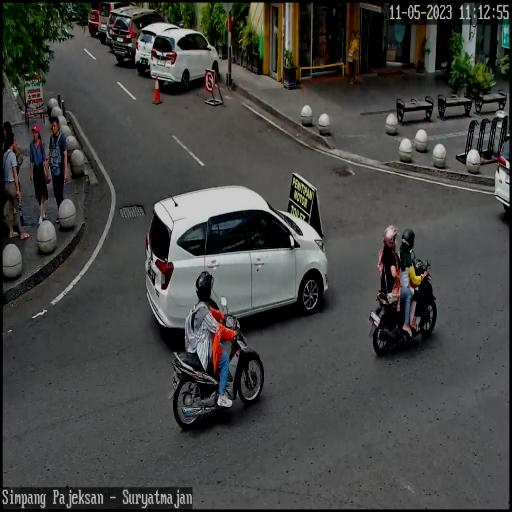mobil: (139, 179, 331, 335), (152, 29, 220, 85), (111, 9, 166, 68), (136, 22, 179, 80)
motor: (168, 304, 266, 438), (366, 250, 440, 364)
